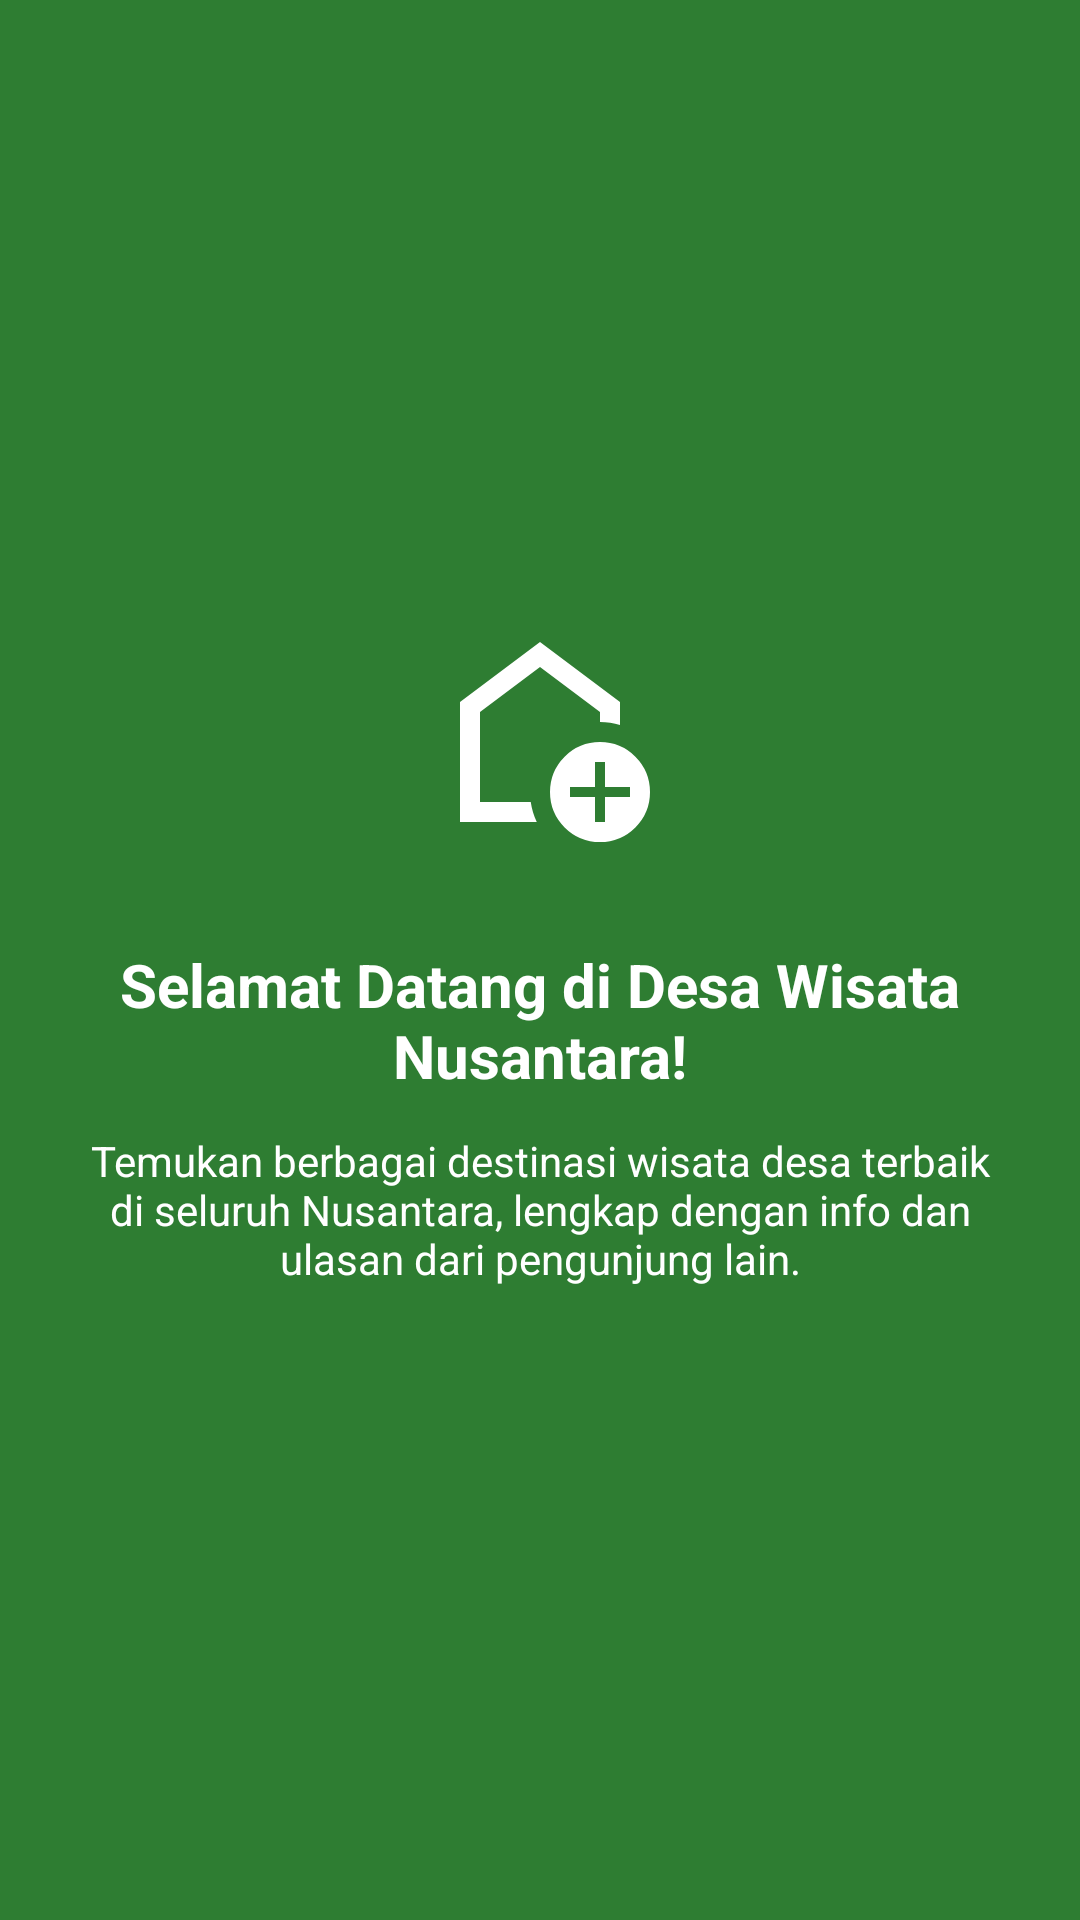

Where to tap for icons on this 1080 x 1920 app screen, as point (x, y):
home: point (555, 742)
